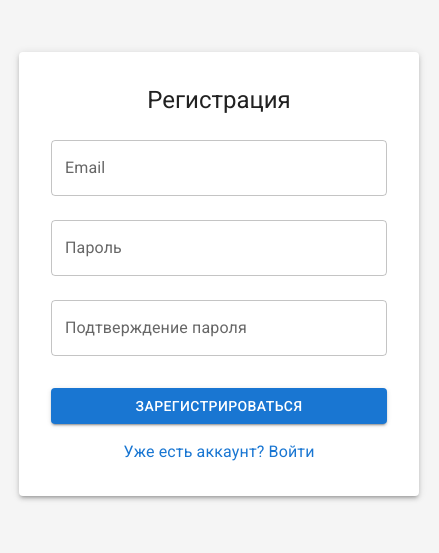
Scenario: RegisterPage › shows validation errors on empty submit
Click the button "Зарегистрироваться".
click(219, 406)  # box [51,388,387,424]
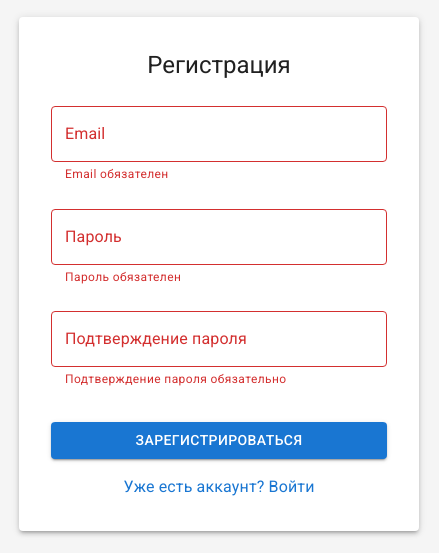
Expected: the text "Email обязателен" is shown, [65,167,169,181]
Expected: the text "Пароль обязателен" is shown, [65,270,181,284]
Expected: the text "Подтверждение пароля обязательно" is shown, [65,372,286,386]
